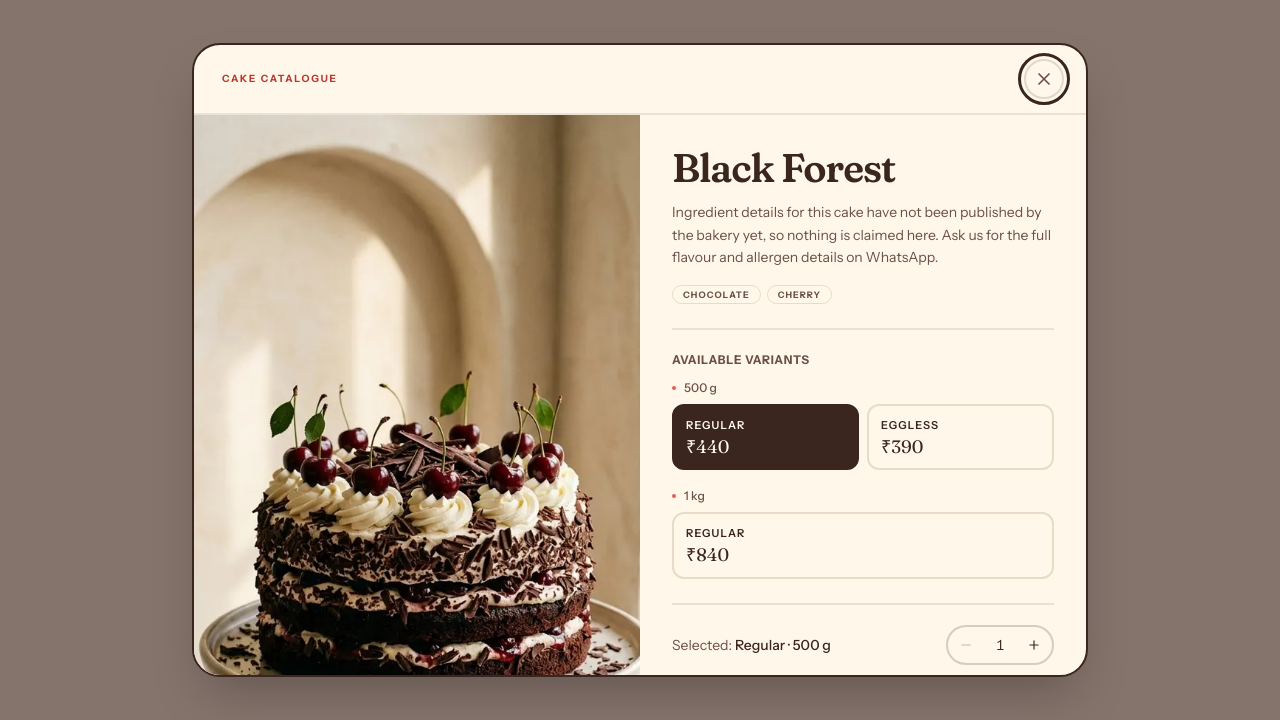
it: product detail dialog › updates the selected variant, totals and WhatsApp message
Click the button "Eggless ₹390" at (960, 437), box [867,404,1054,470]
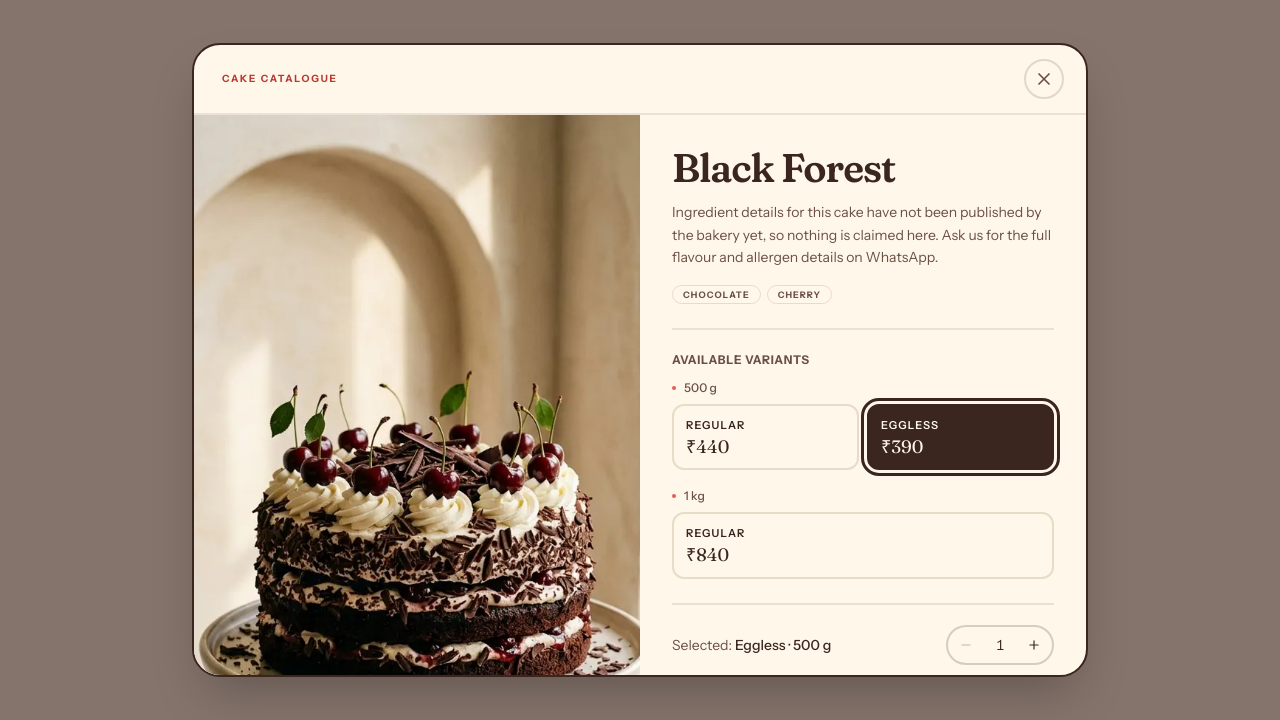
Expected: the text "Eggless · 500 g" is shown, [735,636,831,654]
